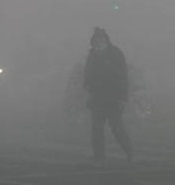person: (81, 26, 140, 165)
